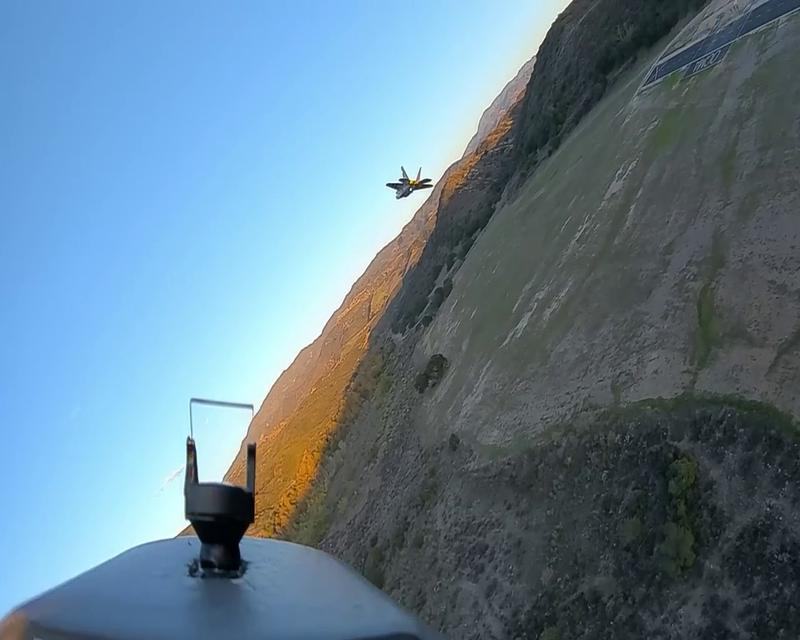UAV: (385, 165, 433, 201)
